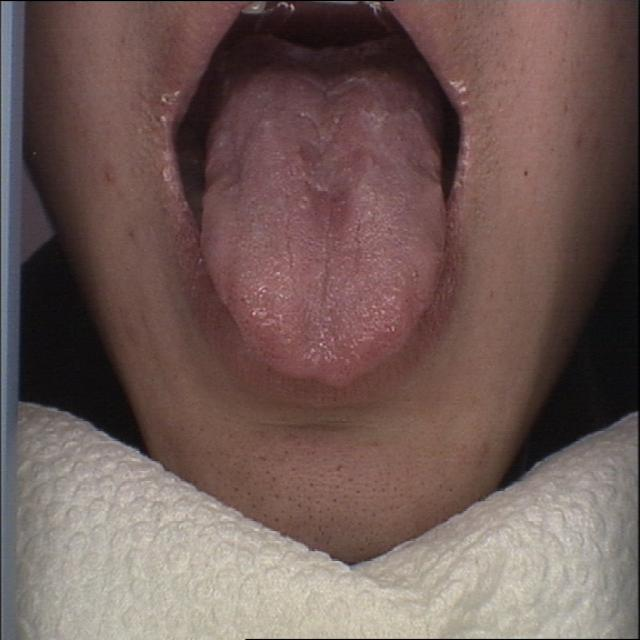tongue: (197, 58, 454, 382)
